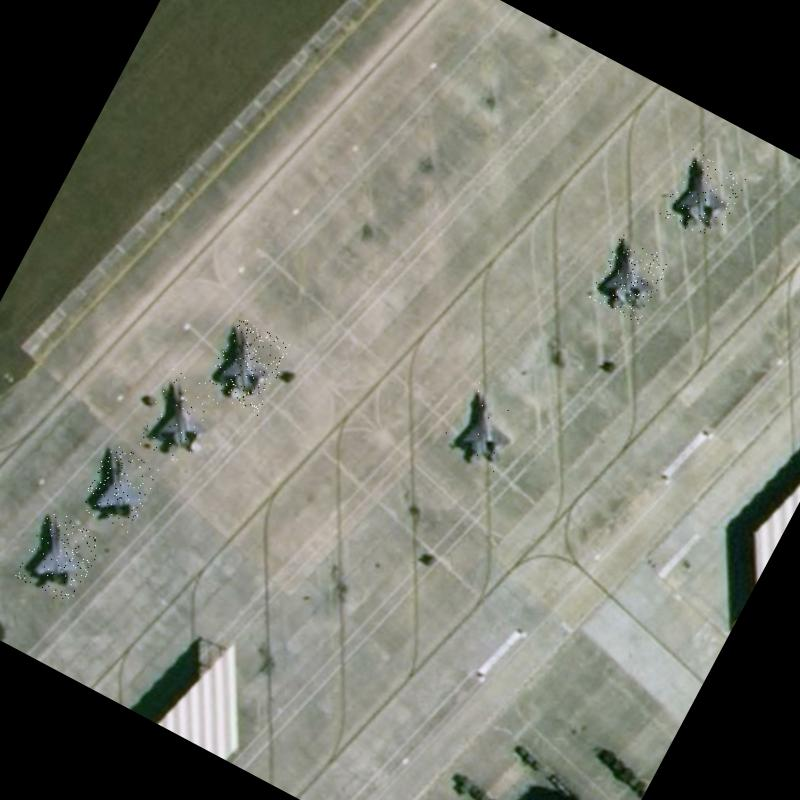A13: (133, 367, 229, 472), (202, 316, 294, 416), (13, 508, 106, 606), (77, 440, 162, 534)
A15: (437, 378, 532, 478), (658, 148, 748, 244), (588, 234, 674, 324)
